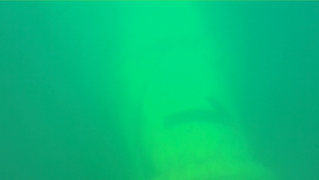1: (162, 95, 237, 129)
pipe: (84, 1, 273, 179)
